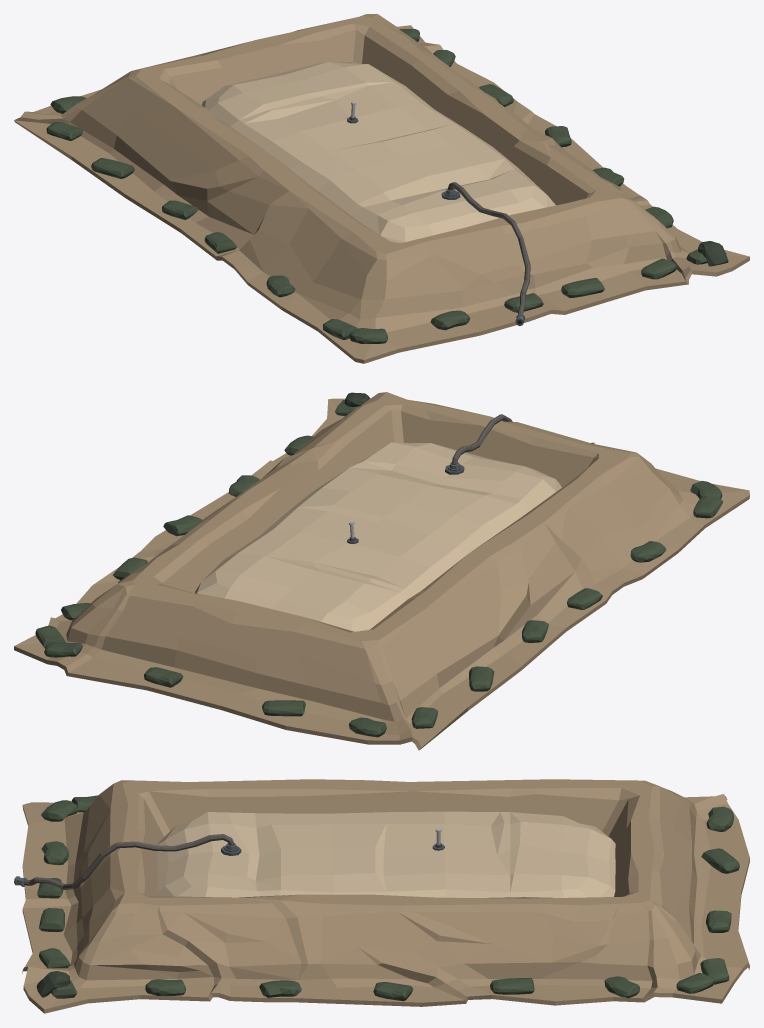
The model's file is SM_Prop_Fuel_Bladder_02.glb.
The picture shows the model from 3 angles, top to bottom: view 1: azimuth 30°, elevation 25°; view 2: azimuth 150°, elevation 25°; view 3: azimuth 270°, elevation 25°; orthographic projection. The views are drawn at different scales.
Visible parts, largest first — view 1: SM_Prop_Fuel_Bladder_02; view 2: SM_Prop_Fuel_Bladder_02; view 3: SM_Prop_Fuel_Bladder_02.
Boxes of the visible parts, left/top/right/bottom form: SM_Prop_Fuel_Bladder_02: left=14, top=14, right=749, bottom=363; SM_Prop_Fuel_Bladder_02: left=14, top=392, right=749, bottom=750; SM_Prop_Fuel_Bladder_02: left=14, top=779, right=749, bottom=1013.
Size of the model in its own units: 9.04 by 1.52 by 13.21.
1 material, 1 textured.
